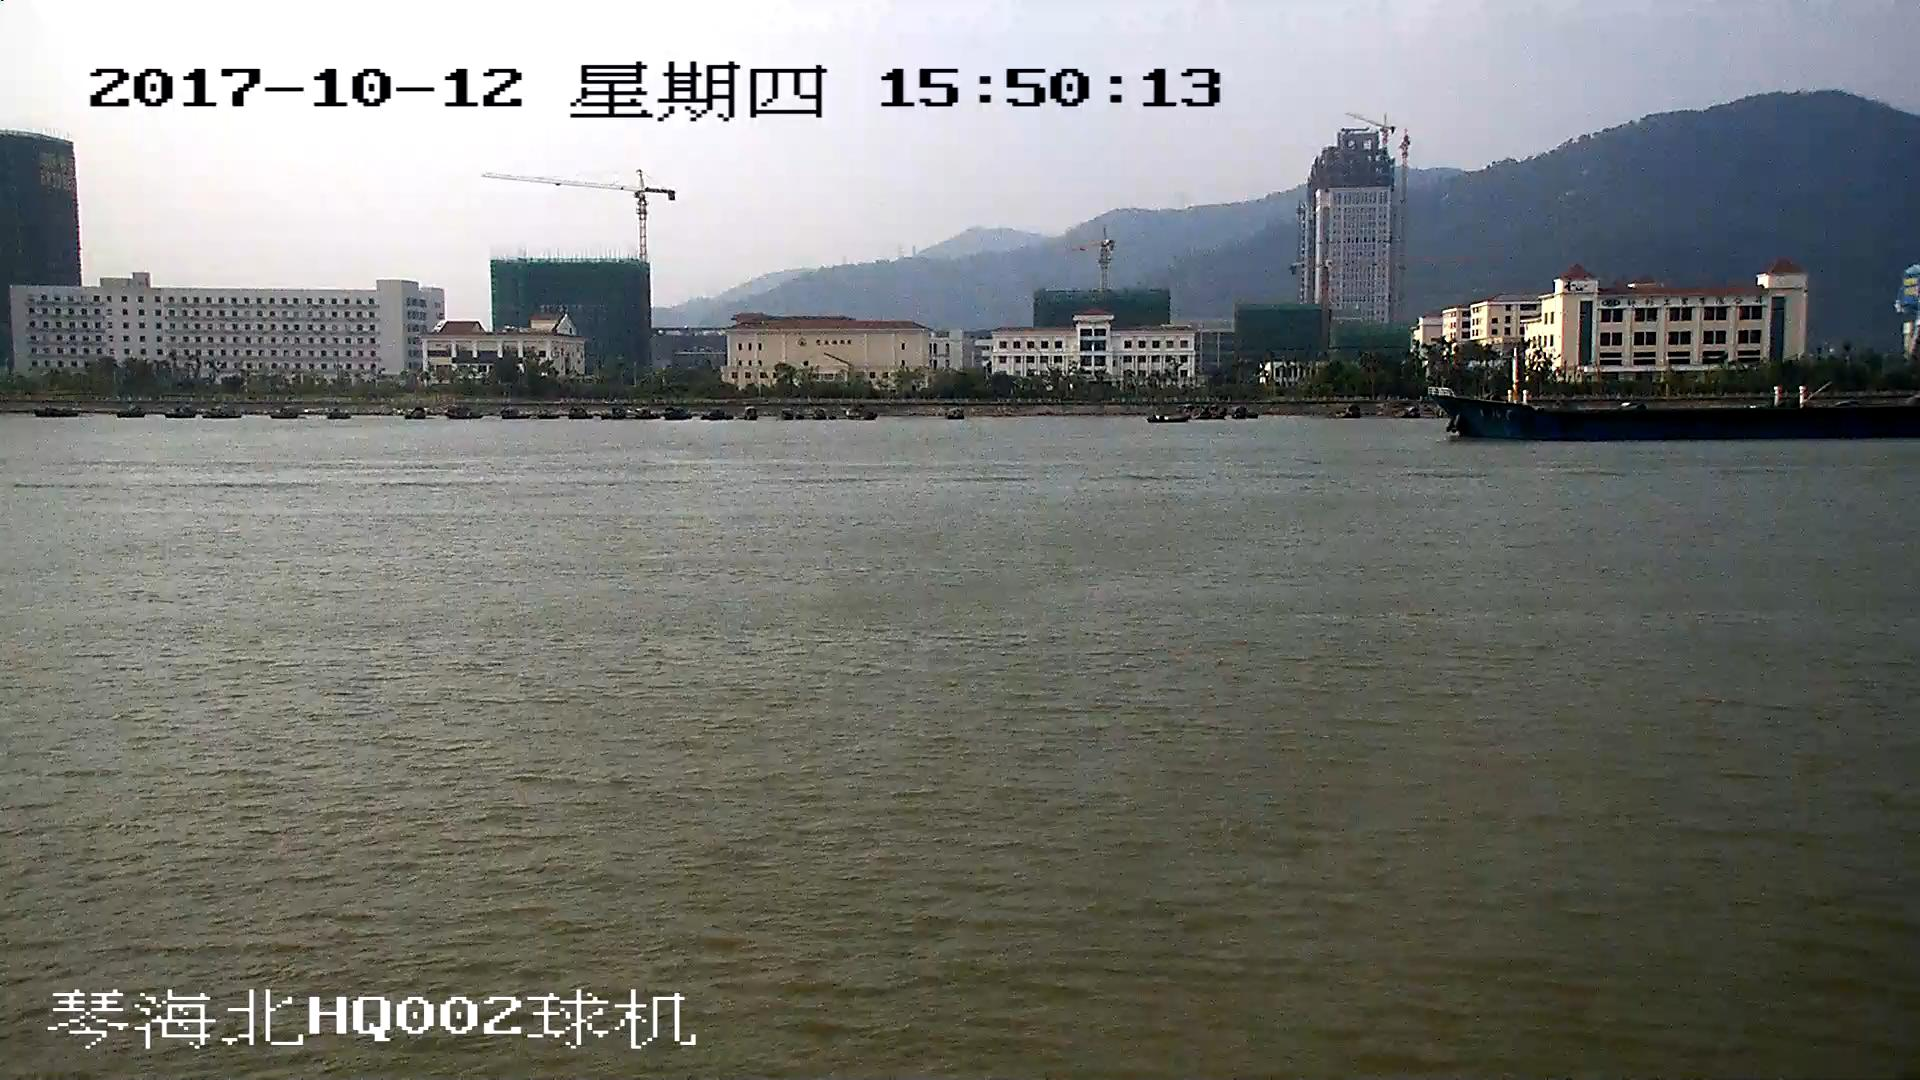general cargo ship: (1433, 350, 1920, 440)
